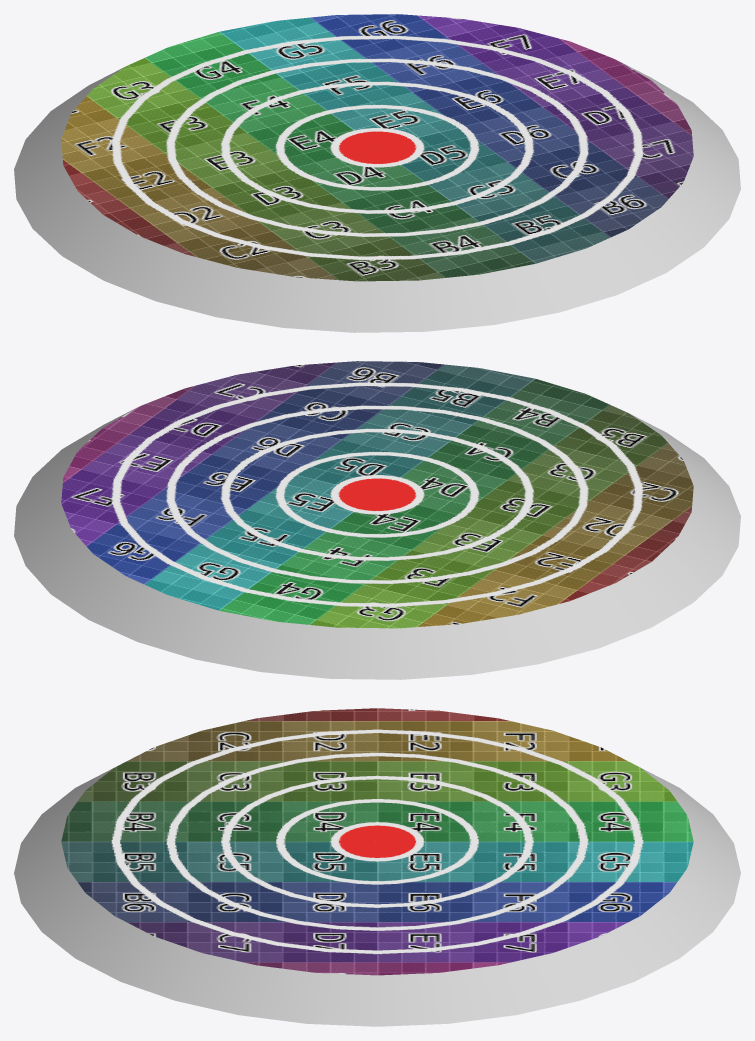
The model's file is aim_on.fbx.
3 views of the same model, one above another, from view 1: azimuth 30°, elevation 25°; view 2: azimuth 150°, elevation 25°; view 3: azimuth 270°, elevation 25° (orthographic).
Parts seen in each view (by area): view 1: Cylinder; view 2: Cylinder; view 3: Cylinder.
Part boxes in pixels (x1,y1,x2,y2): Cylinder: (14,14,740,332); Cylinder: (14,361,740,679); Cylinder: (14,708,740,1026).
Bounding box in the file's own units: 54.3 × 2.59 × 54.3.
Materials: 2 (1 with a texture image).
